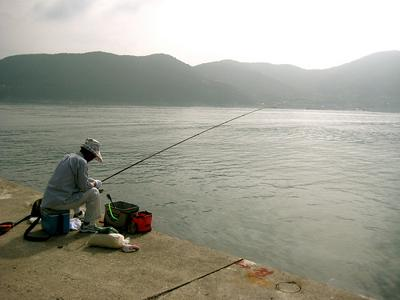person: (38, 138, 103, 234)
